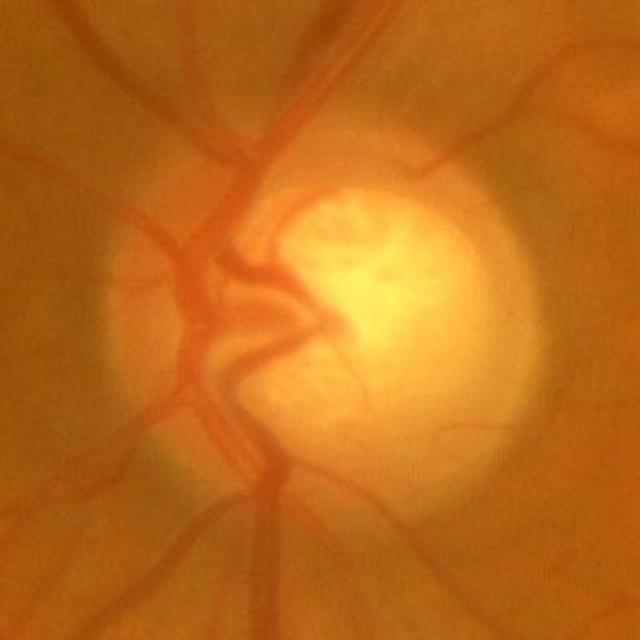OC: (274, 193, 462, 350)
OD: (103, 112, 546, 519)
